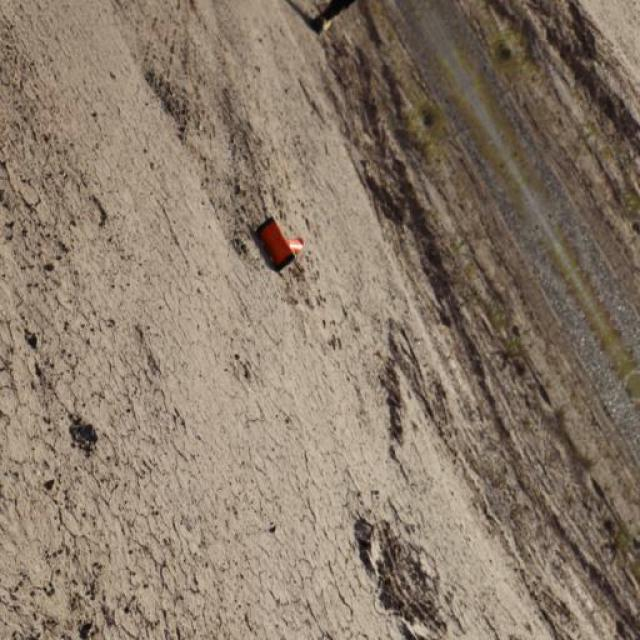mallet: (256, 215, 306, 269)
